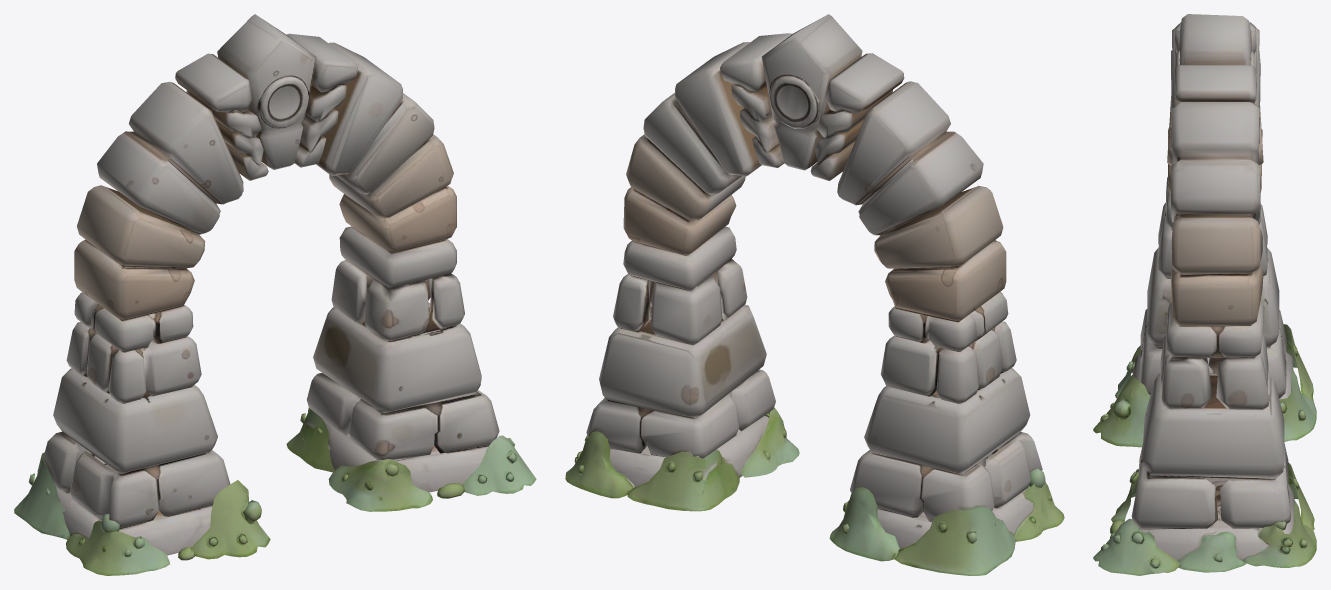
Rendered from pro_arch_gateway.glb.
3 renders of one model, left to right at view 1: azimuth 30°, elevation 25°; view 2: azimuth 150°, elevation 25°; view 3: azimuth 270°, elevation 25°, orthographic. The views are drawn at different scales.
Visible parts, largest first — view 1: tripo_node_46f13220-5dc8-4a61-91b7-54ca10bff631; view 2: tripo_node_46f13220-5dc8-4a61-91b7-54ca10bff631; view 3: tripo_node_46f13220-5dc8-4a61-91b7-54ca10bff631.
Boxes of the visible parts, bbox=[...] form: tripo_node_46f13220-5dc8-4a61-91b7-54ca10bff631: bbox=[14, 14, 536, 575]; tripo_node_46f13220-5dc8-4a61-91b7-54ca10bff631: bbox=[565, 14, 1064, 575]; tripo_node_46f13220-5dc8-4a61-91b7-54ca10bff631: bbox=[1093, 14, 1316, 575].
Size of the model in its own units: 0.9707 by 0.998 by 0.4434.
Materials: 1 (1 with a texture image).
